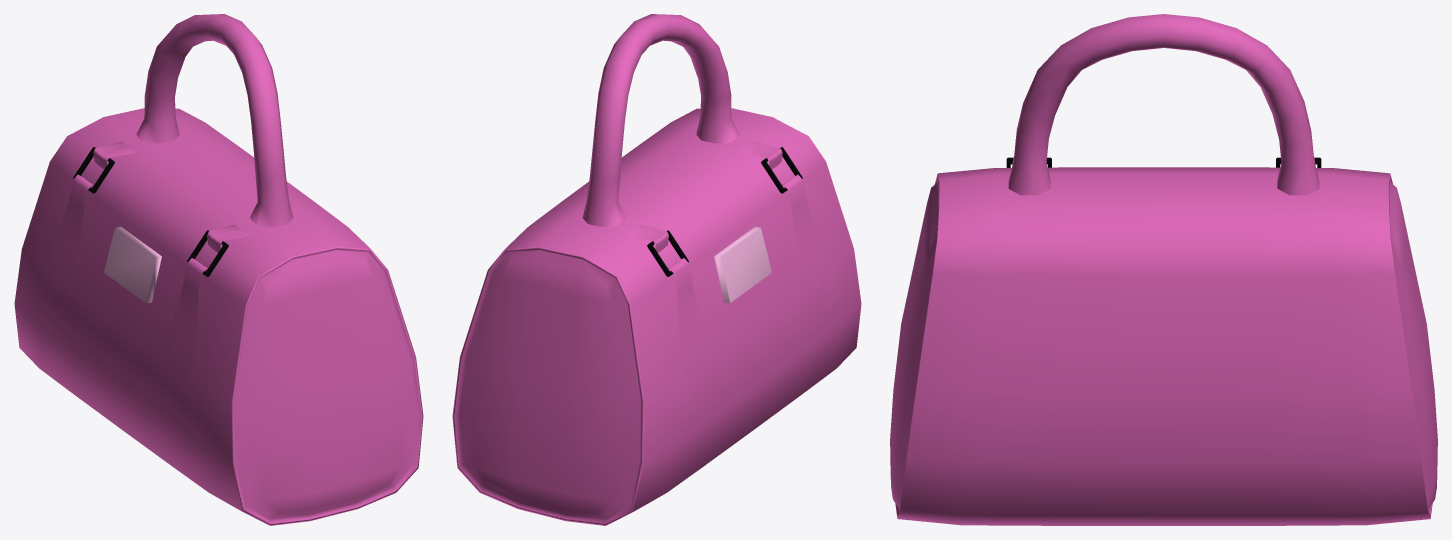
The model's file is SM_Bag.fbx.
The picture shows the model from 3 angles, left to right: view 1: azimuth 30°, elevation 25°; view 2: azimuth 150°, elevation 25°; view 3: azimuth 270°, elevation 25°; orthographic projection. The views are drawn at different scales.
Visible parts, largest first — view 1: SM_Bag; view 2: SM_Bag; view 3: SM_Bag.
Part boxes in pixels (x1,y1,x2,y2): SM_Bag: (14, 14, 423, 525); SM_Bag: (452, 14, 861, 525); SM_Bag: (890, 14, 1437, 525).
Bounding box in the file's own units: 11.79 × 23.37 × 23.03.
1 material, 1 textured.
